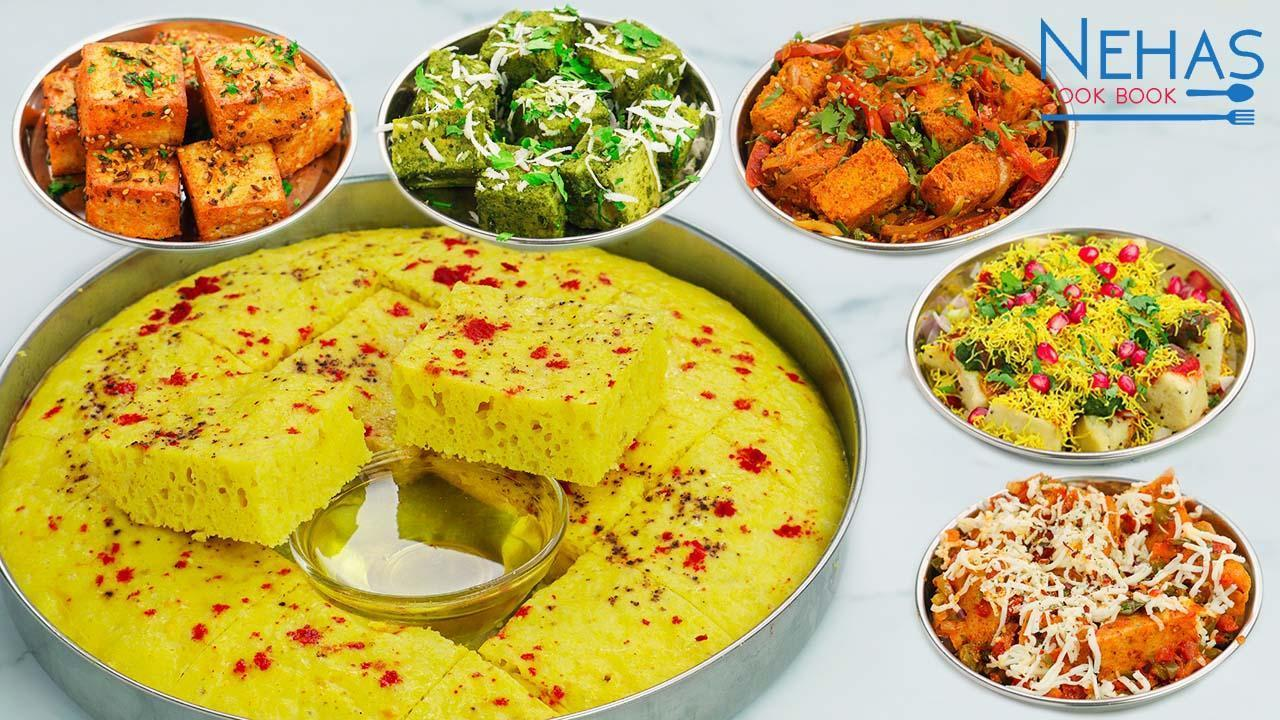dhokla: (74, 251, 804, 672), (26, 25, 344, 243), (402, 23, 710, 247), (910, 481, 1242, 684), (756, 27, 1064, 229), (928, 239, 1230, 440)
